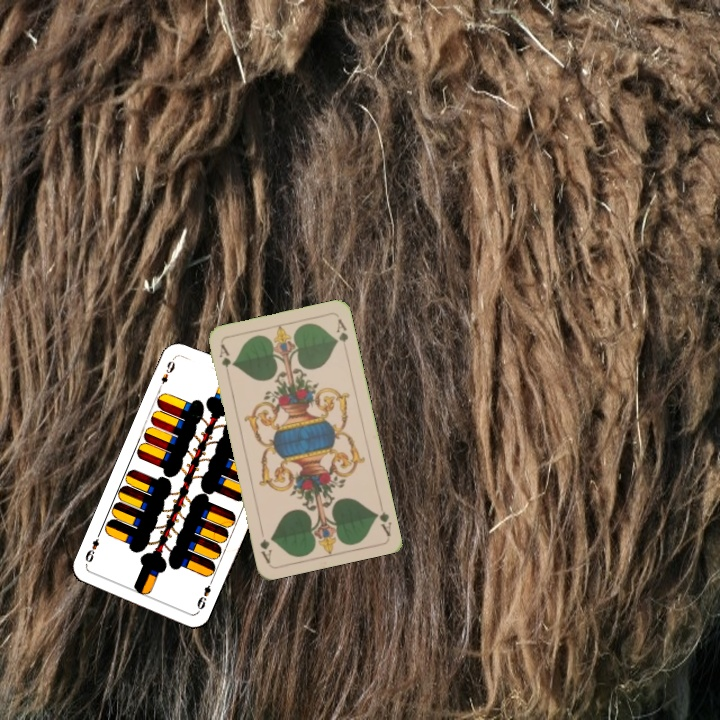E9: (193, 575, 216, 614), (155, 354, 178, 392)
GA: (215, 340, 233, 380), (371, 508, 394, 538)
